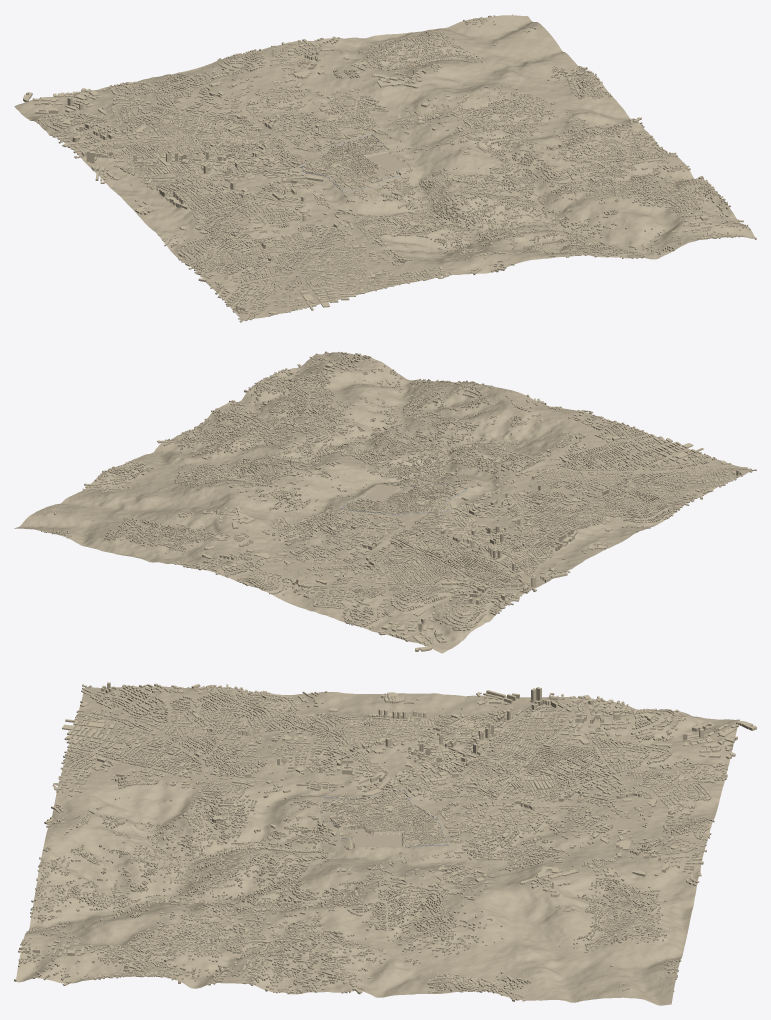
File: pays_leger.glb
3 views of the same model, one above another, from view 1: azimuth 30°, elevation 25°; view 2: azimuth 150°, elevation 25°; view 3: azimuth 270°, elevation 25° (orthographic). The views are drawn at different scales.
Visible parts, largest first — view 1: Pays_relief, Ville_-5_-1, Ville_-5_+1, Ville_-5_+2, Ville_-3_+2, Ville_-4_+1, Ville_-5_+0, Ville_-6_-3, Ville_+0_-3, Ville_-3_+1, Ville_+3_+4, Ville_-3_+0 (+60 smaller); view 2: Pays_relief, Ville_-5_+2, Ville_-3_+2, Ville_-4_+2, Ville_-5_+1, Ville_-3_+3, Ville_-5_+0, Ville_+0_-2, Ville_-5_-1, Ville_-4_+1, Ville_-4_-4, Ville_-3_+1 (+46 smaller); view 3: Pays_relief, Ville_-3_+2, Ville_+2_+0, Ville_-3_+3, Ville_-5_+2, Ville_-4_+1, Ville_-4_+2, Ville_-4_+3, Ville_-3_+1, Ville_+4_-2, Ville_-6_-3, Ville_-1_+0 (+83 smaller).
Part boxes in pixels (x1,y1,x2,y2): Pays_relief: [14, 15, 754, 320]; Ville_-5_-1: [190, 193, 252, 222]; Ville_-5_+1: [144, 154, 202, 188]; Ville_-5_+2: [123, 143, 180, 169]; Ville_-3_+2: [199, 125, 266, 149]; Ville_-4_+1: [186, 149, 245, 175]; Ville_-5_+0: [166, 175, 226, 204]; Ville_-6_-3: [196, 241, 258, 267]; Ville_+0_-3: [439, 188, 498, 222]; Ville_-3_+1: [224, 140, 287, 166]; Ville_+3_+4: [395, 36, 459, 63]; Ville_-3_+0: [248, 158, 306, 185]; Pays_relief: [14, 352, 751, 653]; Ville_-5_+2: [465, 548, 522, 578]; Ville_-3_+2: [386, 538, 447, 562]; Ville_-4_+2: [425, 545, 482, 571]; Ville_-5_+1: [487, 538, 545, 564]; Ville_-3_+3: [370, 556, 424, 580]; Ville_-5_+0: [508, 523, 566, 549]; Ville_+0_-2: [363, 451, 421, 481]; Ville_-5_-1: [530, 507, 587, 532]; Ville_-4_+1: [450, 529, 507, 553]; Ville_-4_-4: [562, 452, 614, 479]; Ville_-3_+1: [408, 522, 466, 544]; Pays_relief: [16, 686, 739, 1005]; Ville_-3_+2: [485, 761, 544, 794]; Ville_+2_+0: [376, 879, 434, 913]; Ville_-3_+3: [539, 765, 598, 793]; Ville_-5_+2: [477, 710, 542, 743]; Ville_-4_+1: [429, 733, 489, 766]; Ville_-4_+2: [486, 739, 544, 767]; Ville_-4_+3: [540, 740, 597, 768]; Ville_-3_+1: [429, 762, 489, 792]; Ville_+4_-2: [267, 934, 324, 970]; Ville_-6_-3: [212, 698, 270, 726]; Ville_-1_+0: [377, 814, 432, 841].
Bounding box in the file's own units: 6416 × 395 × 6535.
